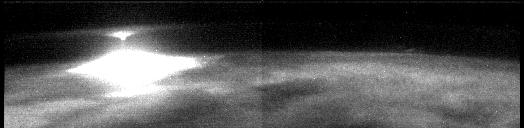negative: (105, 29, 136, 44)
